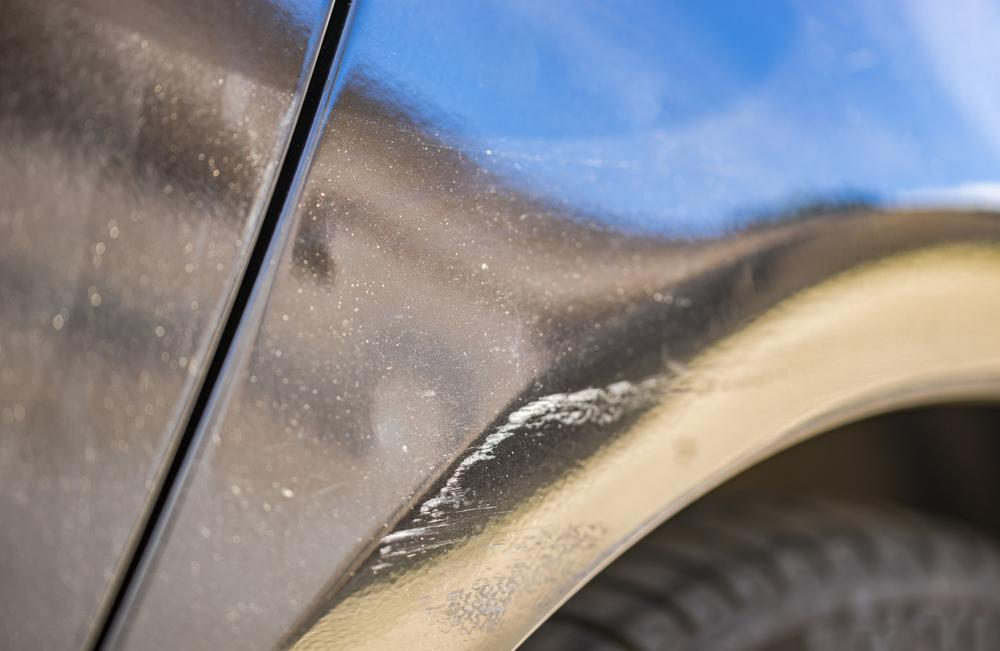scratch: (351, 358, 729, 607)
